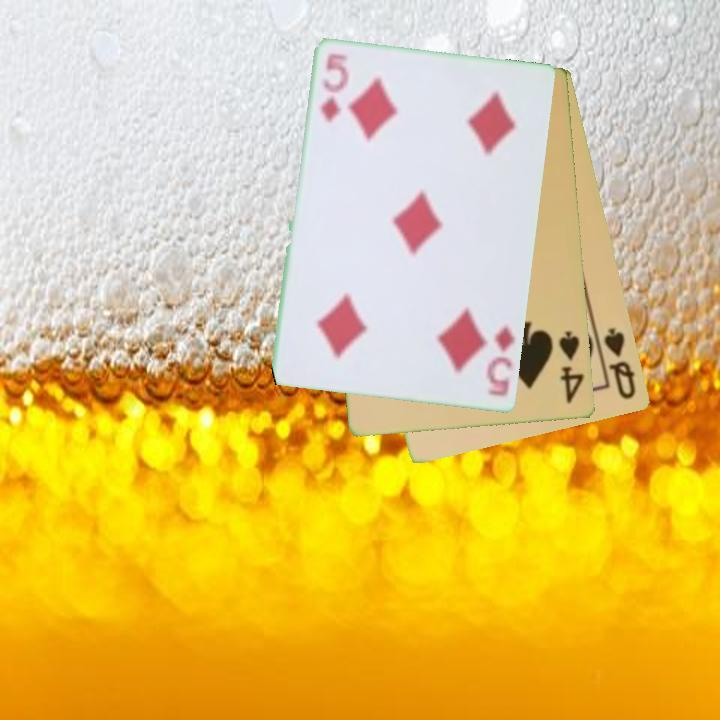4s: (556, 328, 587, 407)
5d: (483, 323, 519, 400), (318, 50, 347, 126)
Qs: (601, 324, 639, 403)
